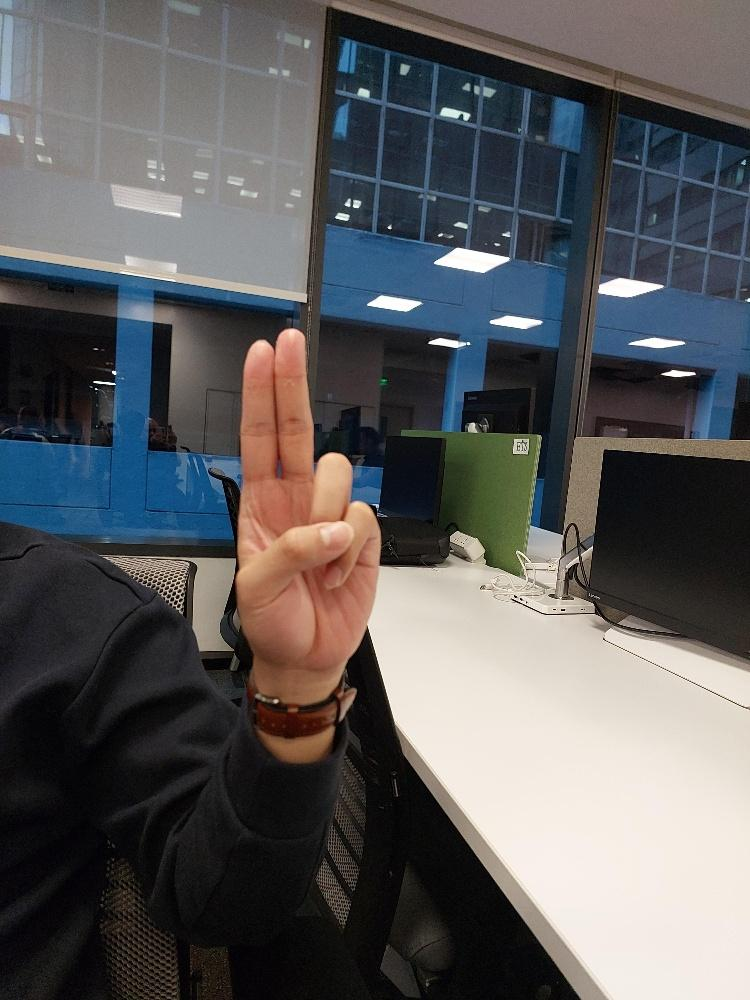u: (232, 329, 381, 667)
